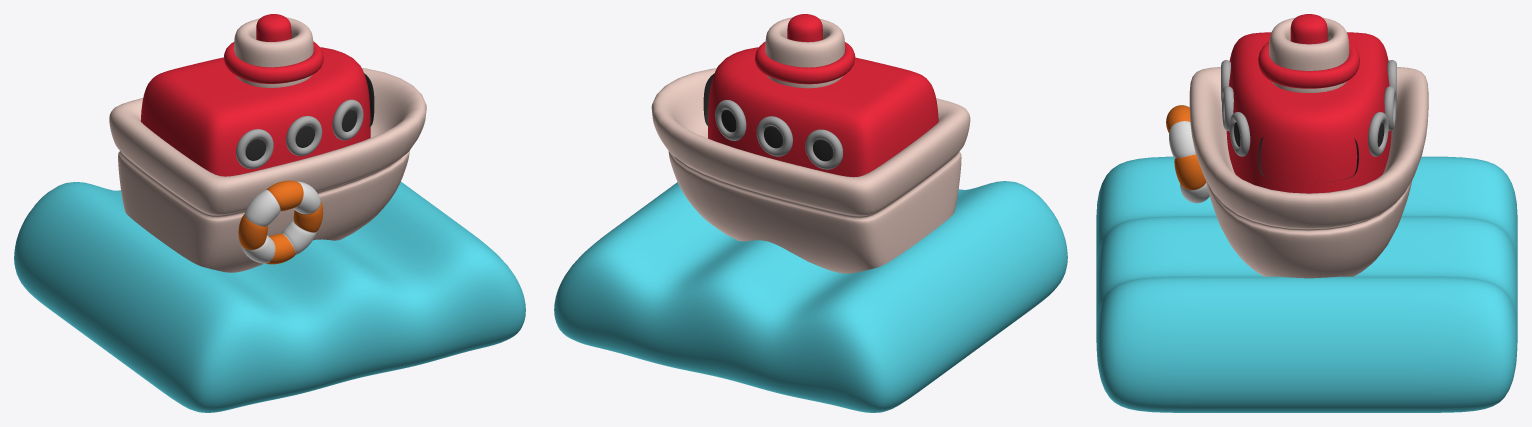
The model's file is cruise-animated-3d-icon-582190479817.glb.
The picture shows the model from 3 angles, left to right: view 1: azimuth 30°, elevation 25°; view 2: azimuth 150°, elevation 25°; view 3: azimuth 270°, elevation 25°; orthographic projection. The views are drawn at different scales.
Visible parts, largest first — view 1: Sea, Body.005, Cabin, Lifebuoy, Tower, Frame.002, Detail.002, Windows.003, Chimney; view 2: Sea, Body.005, Cabin, Tower, Frame.002, Detail.002, Windows.003, Chimney; view 3: Sea, Body.005, Cabin, Tower, Frame.002, Lifebuoy, Detail.002, Chimney, Windows.003.
Boxes of the visible parts, left/top/right/bottom form: Sea: left=14, top=181, right=525, bottom=412; Body.005: left=109, top=68, right=426, bottom=272; Cabin: left=140, top=47, right=370, bottom=176; Lifebuoy: left=238, top=180, right=323, bottom=264; Tower: left=234, top=17, right=313, bottom=87; Frame.002: left=236, top=99, right=363, bottom=168; Detail.002: left=224, top=41, right=323, bottom=83; Windows.003: left=245, top=73, right=374, bottom=160; Chimney: left=256, top=14, right=291, bottom=41; Sea: left=554, top=181, right=1067, bottom=412; Body.005: left=651, top=68, right=970, bottom=273; Cabin: left=708, top=47, right=938, bottom=177; Tower: left=765, top=17, right=844, bottom=88; Frame.002: left=715, top=100, right=843, bottom=169; Detail.002: left=755, top=41, right=855, bottom=84; Windows.003: left=703, top=73, right=833, bottom=161; Chimney: left=787, top=14, right=822, bottom=42; Sea: left=1096, top=156, right=1517, bottom=412; Body.005: left=1189, top=67, right=1428, bottom=278; Cabin: left=1226, top=32, right=1391, bottom=193; Tower: left=1269, top=17, right=1349, bottom=92; Frame.002: left=1221, top=60, right=1396, bottom=156; Lifebuoy: left=1166, top=105, right=1209, bottom=203; Detail.002: left=1258, top=41, right=1359, bottom=88; Chimney: left=1290, top=14, right=1327, bottom=44; Windows.003: left=1234, top=122, right=1384, bottom=183.
Size of what is drawn, in the model's own units: 1.72 by 1.45 by 1.71.
